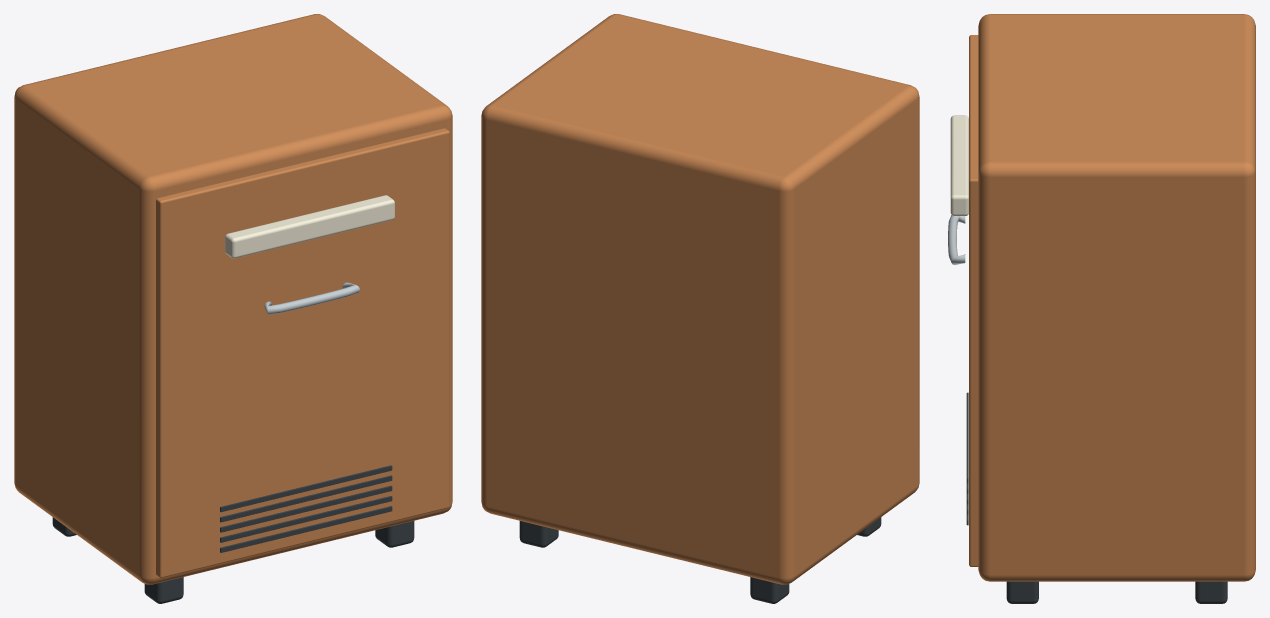
Rendered from abandoned-weather-station-and-storm-shelter-station-ba-bc3196ba__31031.glb.
The picture shows the model from 3 angles, left to right: view 1: azimuth 30°, elevation 25°; view 2: azimuth 150°, elevation 25°; view 3: azimuth 270°, elevation 25°; orthographic projection. The views are drawn at different scales.
Visible parts, largest first — view 1: station-battery-cabinet; view 2: station-battery-cabinet; view 3: station-battery-cabinet.
Boxes of the visible parts, left/top/right/bottom form: station-battery-cabinet: left=14, top=14, right=452, bottom=603; station-battery-cabinet: left=481, top=14, right=919, bottom=603; station-battery-cabinet: left=948, top=14, right=1255, bottom=603.
Bounding box in the file's own units: 0.8 × 1.08 × 0.6656.
